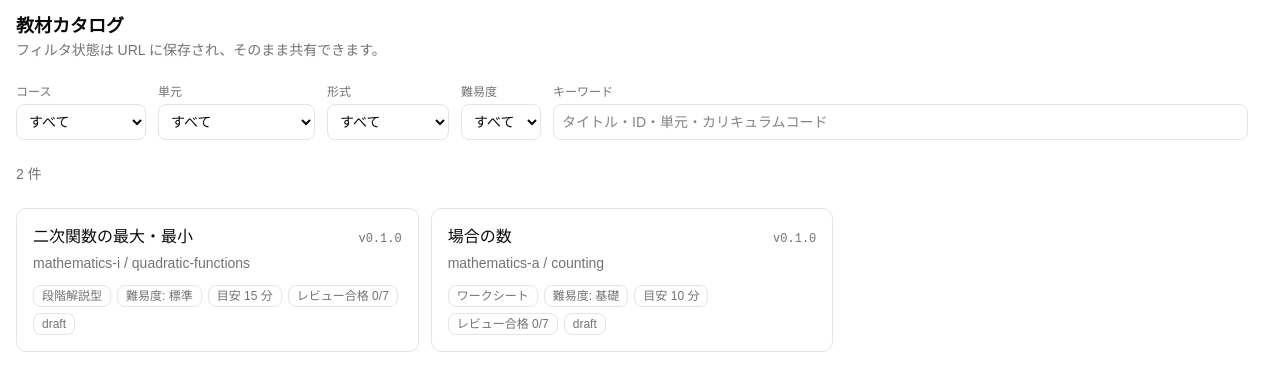
it: CatalogPage › filters by keyword input
The image size is (1265, 369).
In the search field labelled "キーワード": (900, 122) [553,104,1248,140], type "場合の数"
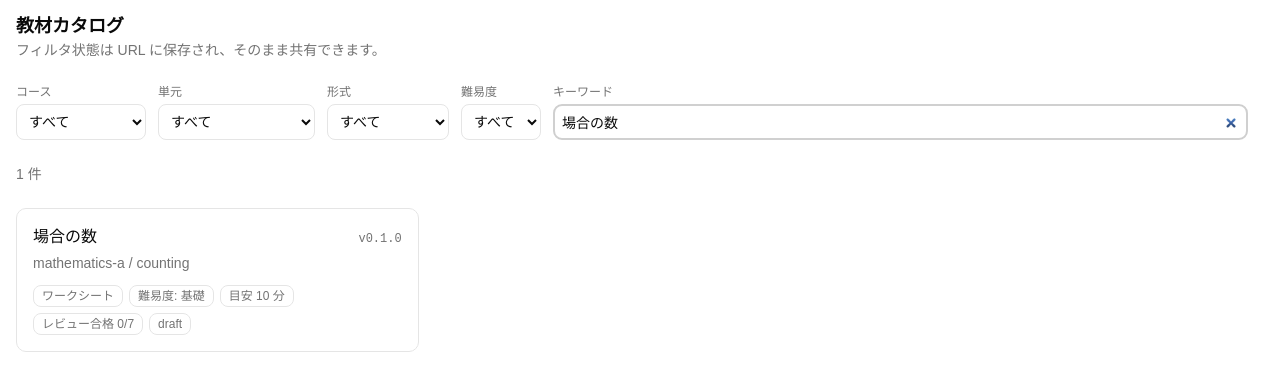
Check: the text "1 件" is shown, box [16,166,42,182]
Check: the link "二次関数の最大・最小" is gone
